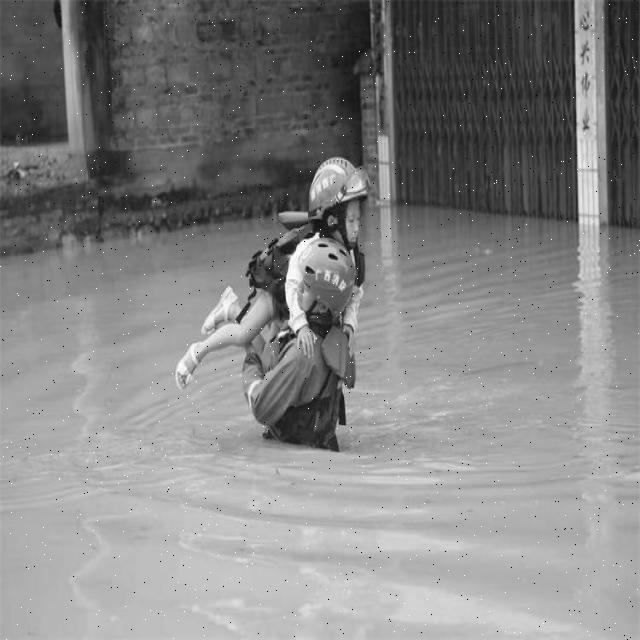rescuer: (260, 235, 357, 460)
